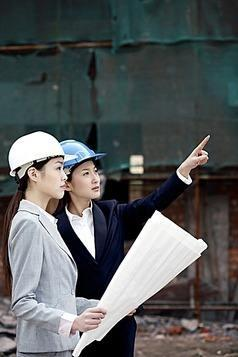Helmet: (8, 130, 66, 198)
